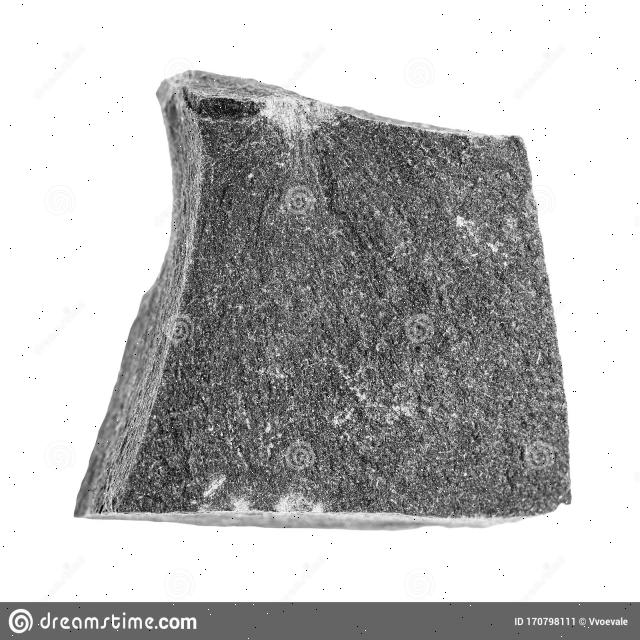Igneous: (69, 65, 608, 538)
